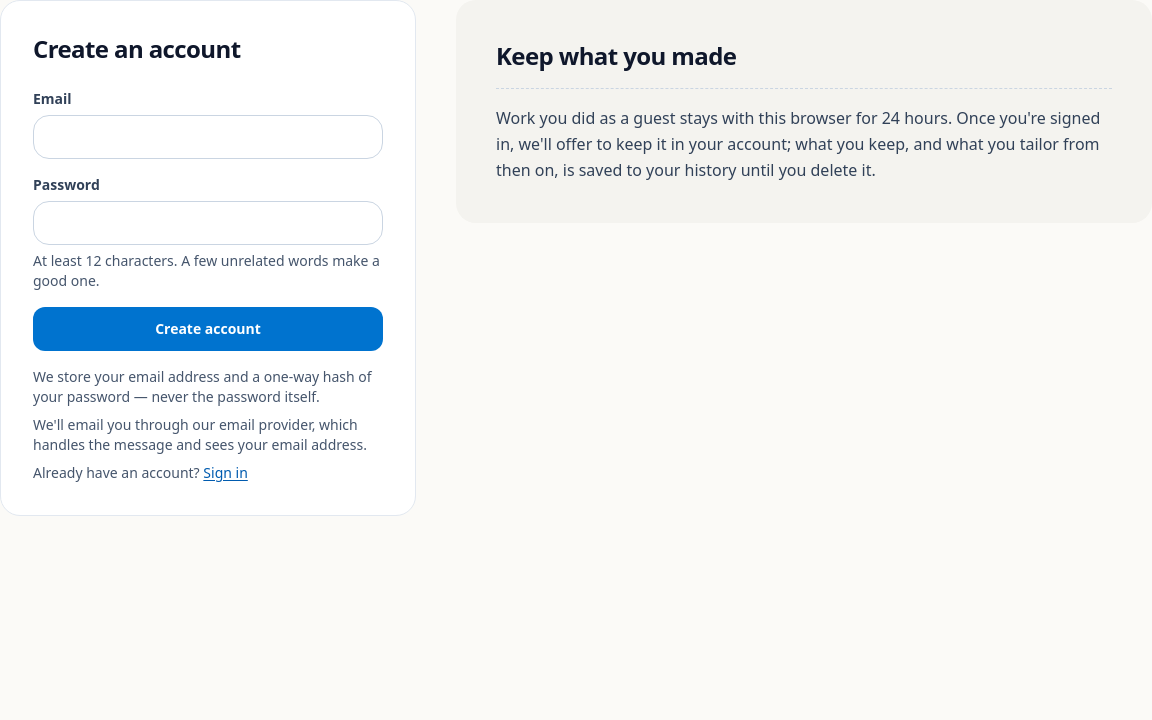
it: RegisterPage › AC-45 success: a 202 shows "Check your email" in place and signs nobody in (2.5; was: a 201 navigated to safeNext)
The image size is (1152, 720).
Type "alex@example.com" into the field labelled "Email". click: (208, 137)
box: [33,115,383,159]
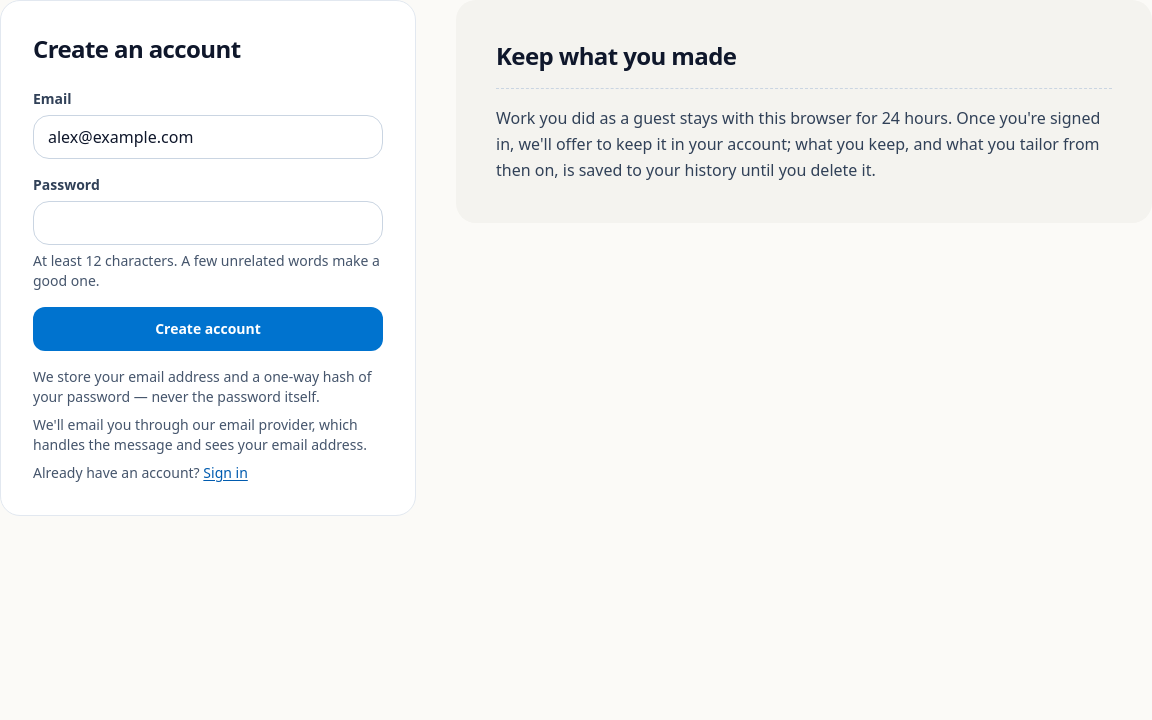
Type "a very long real password" into the password field labelled "Password". click: (208, 223)
box: [33,201,383,245]
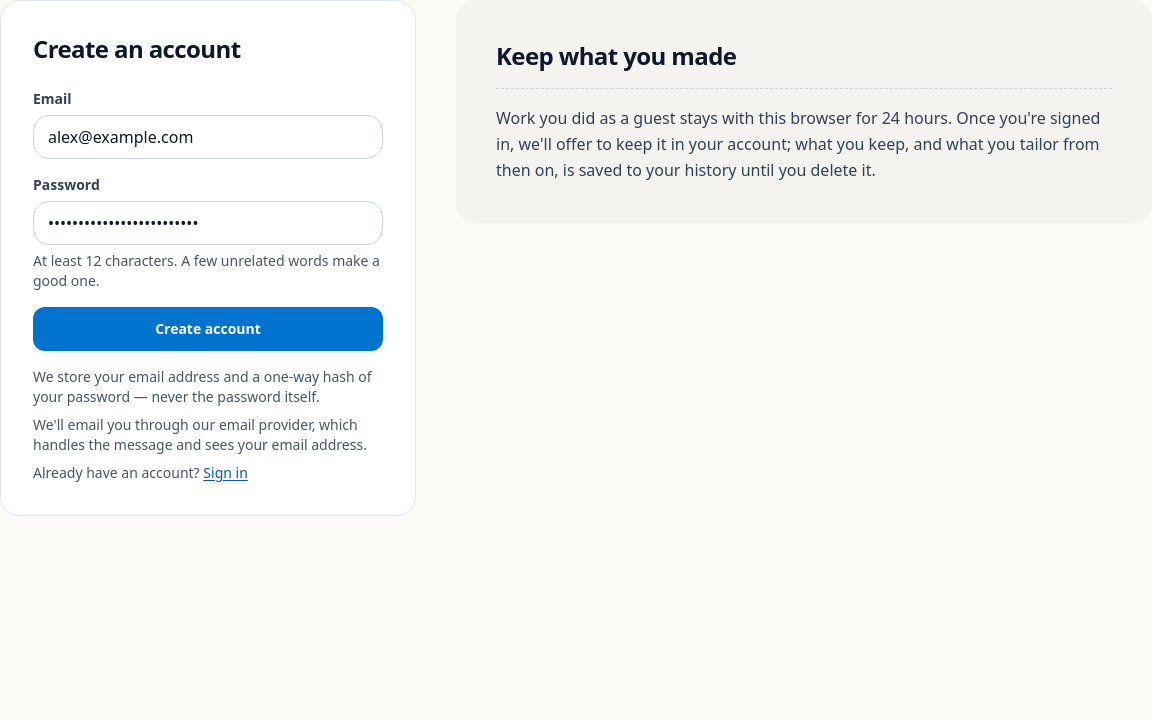
Click the button "Create account". click: (208, 329)
box: [33,307,383,351]
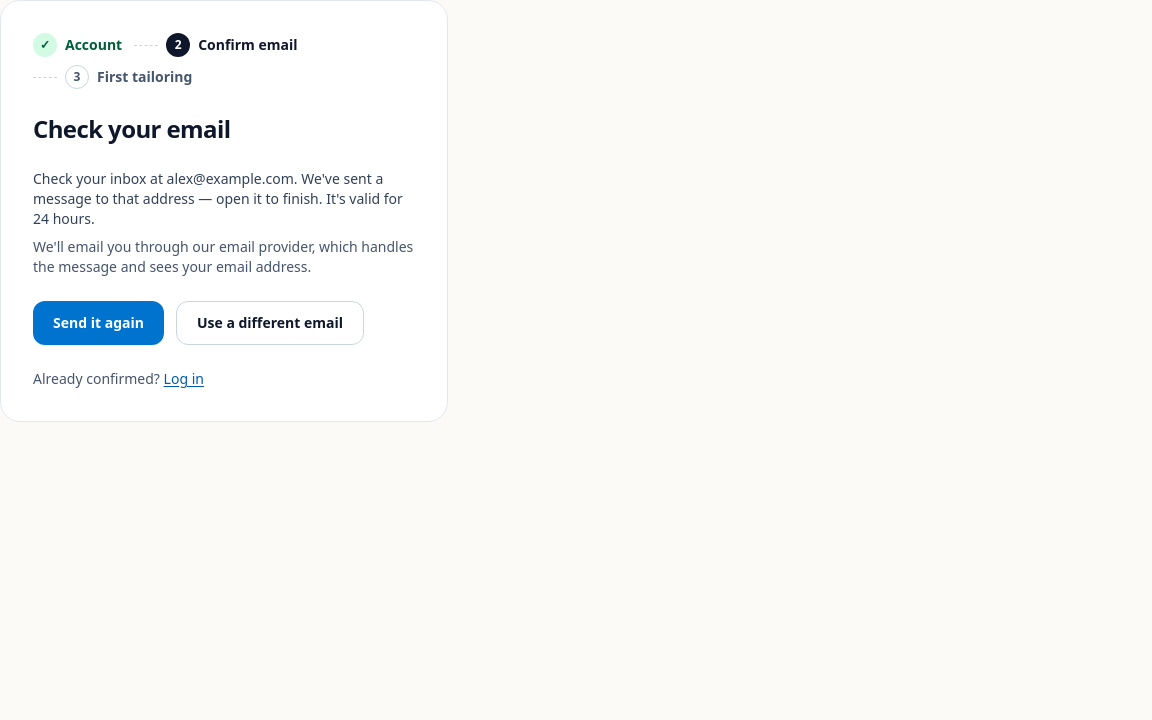
Expected: the heading "Check your email" is shown, [33,112,230,145]
